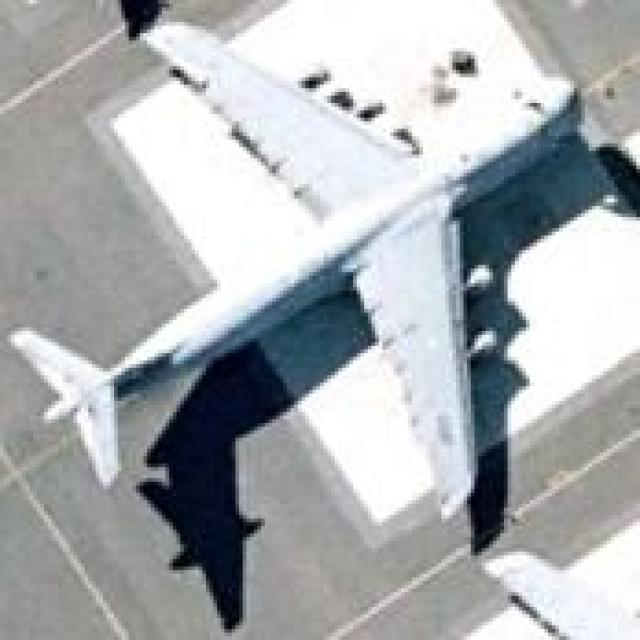C-5_TopDown: (0, 18, 607, 629)
